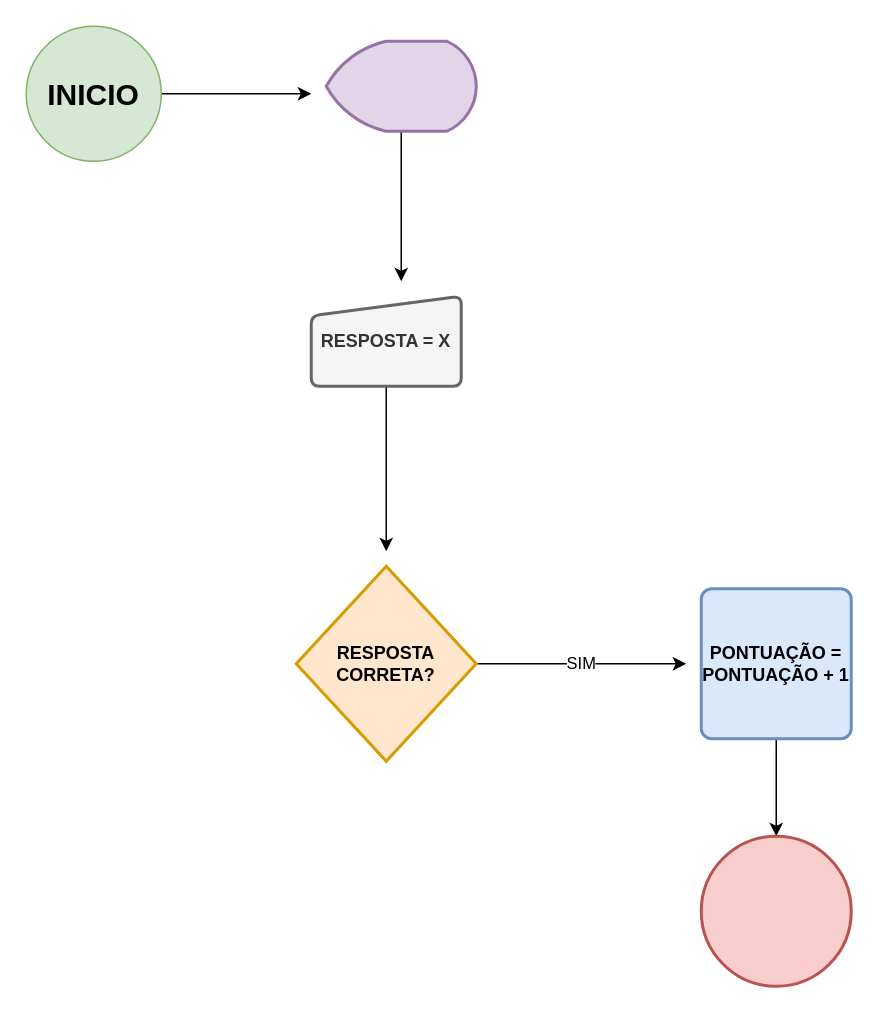
Image size: 879x1014. Some labels were removed from this diagram. The centre of each missing label's shape, as x and y in pixels:
FIM: (x=775, y=910)
PERGUNTA: (x=400, y=85)
